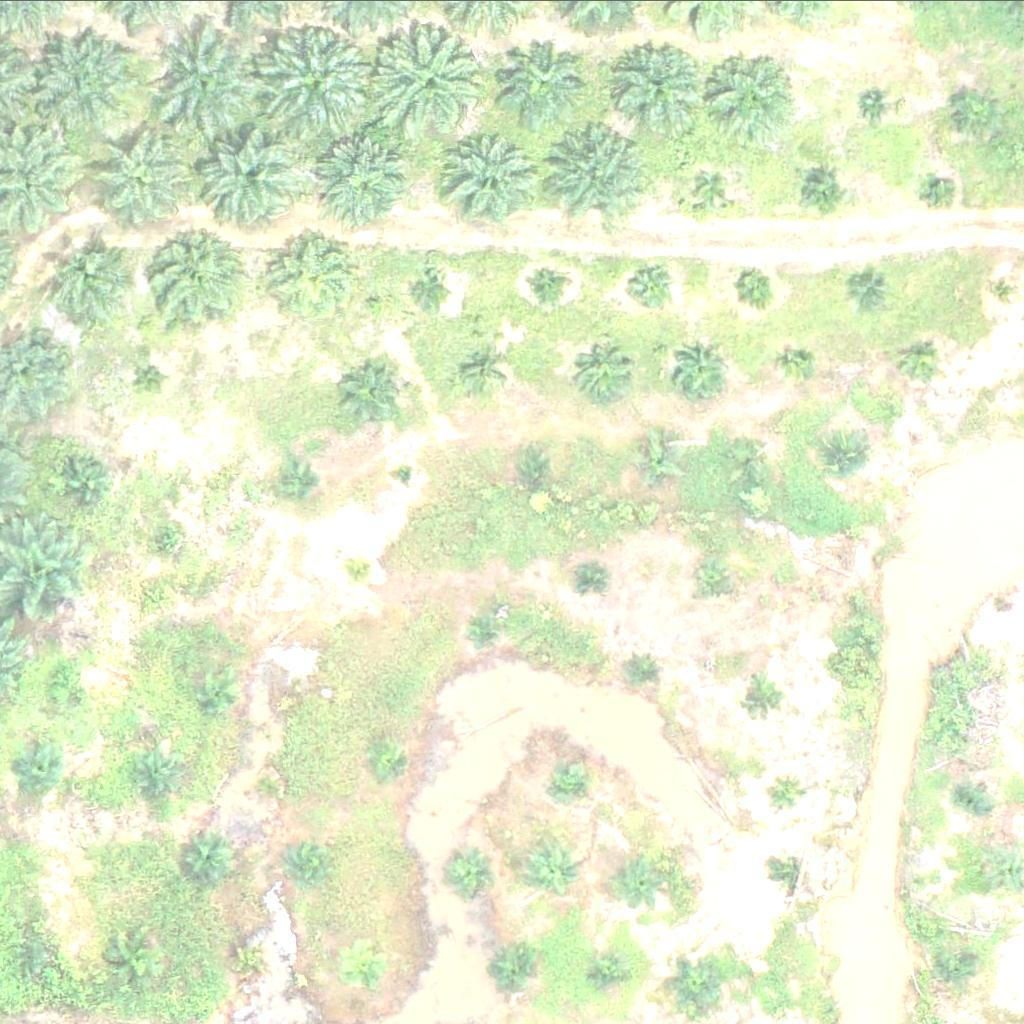Kelapa_Sawit: (254, 21, 379, 146), (373, 21, 498, 146), (31, 24, 144, 137), (149, 27, 262, 140), (82, 133, 183, 233), (199, 122, 300, 222), (318, 125, 419, 225), (446, 128, 547, 228), (37, 230, 138, 330), (143, 228, 244, 328), (264, 223, 365, 323), (548, 120, 649, 220), (706, 52, 794, 140), (614, 40, 702, 128), (501, 33, 589, 121), (345, 365, 408, 428), (672, 339, 735, 401), (667, 948, 729, 1010), (108, 934, 159, 984), (188, 837, 239, 887), (345, 942, 396, 992), (446, 847, 497, 897), (59, 459, 110, 509), (575, 348, 626, 398), (899, 335, 950, 385), (632, 432, 683, 482), (217, 929, 268, 979), (485, 949, 535, 999), (530, 842, 580, 892), (616, 856, 666, 906), (955, 86, 1005, 136), (795, 167, 845, 217), (686, 164, 736, 214), (622, 259, 672, 309), (133, 753, 183, 803), (10, 740, 60, 790), (517, 454, 555, 492), (45, 662, 83, 700), (196, 671, 234, 709), (152, 519, 190, 557), (133, 357, 171, 395), (342, 551, 380, 589), (587, 949, 625, 987), (411, 260, 449, 298), (956, 781, 994, 819), (554, 762, 592, 799), (784, 344, 821, 382), (528, 267, 566, 304), (461, 349, 499, 386), (572, 554, 609, 592), (747, 679, 785, 716), (730, 437, 767, 475), (732, 265, 770, 302), (12, 934, 50, 971), (281, 468, 319, 505), (242, 771, 280, 808), (771, 775, 809, 812), (956, 938, 994, 975), (292, 845, 329, 882), (856, 269, 893, 306), (828, 437, 865, 474), (620, 657, 657, 694), (698, 560, 735, 597), (365, 740, 402, 777), (463, 609, 500, 646), (777, 864, 803, 889), (926, 180, 951, 205), (995, 275, 1020, 300), (391, 461, 416, 486), (862, 93, 887, 117)
